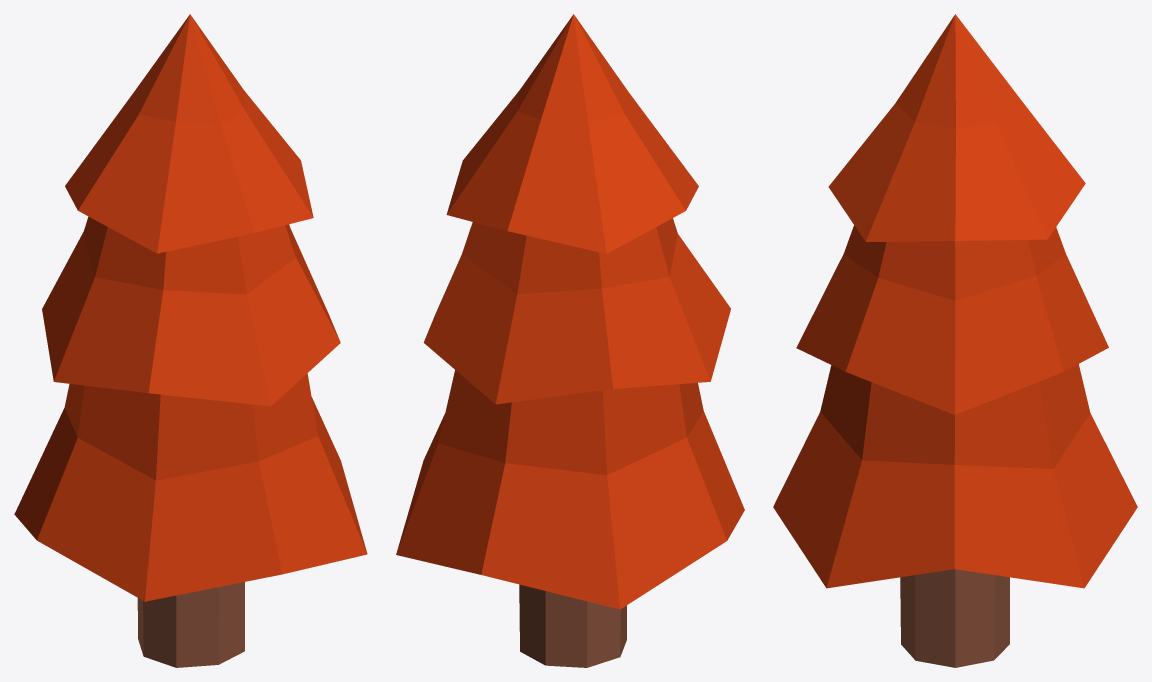
The model's file is red_tree1_light.glb.
The picture shows the model from 3 angles, left to right: view 1: azimuth 30°, elevation 25°; view 2: azimuth 150°, elevation 25°; view 3: azimuth 270°, elevation 25°; orthographic projection.
Parts seen in each view (by area): view 1: Tree_01_summer_red; view 2: Tree_01_summer_red; view 3: Tree_01_summer_red.
Boxes of the visible parts, x1,y1,x2,y2 form: Tree_01_summer_red: (14,14,367,667); Tree_01_summer_red: (396,14,744,667); Tree_01_summer_red: (773,14,1137,667).
Bounding box in the file's own units: 0.8322 × 1.65 × 0.8678.
1 material, 1 textured.
